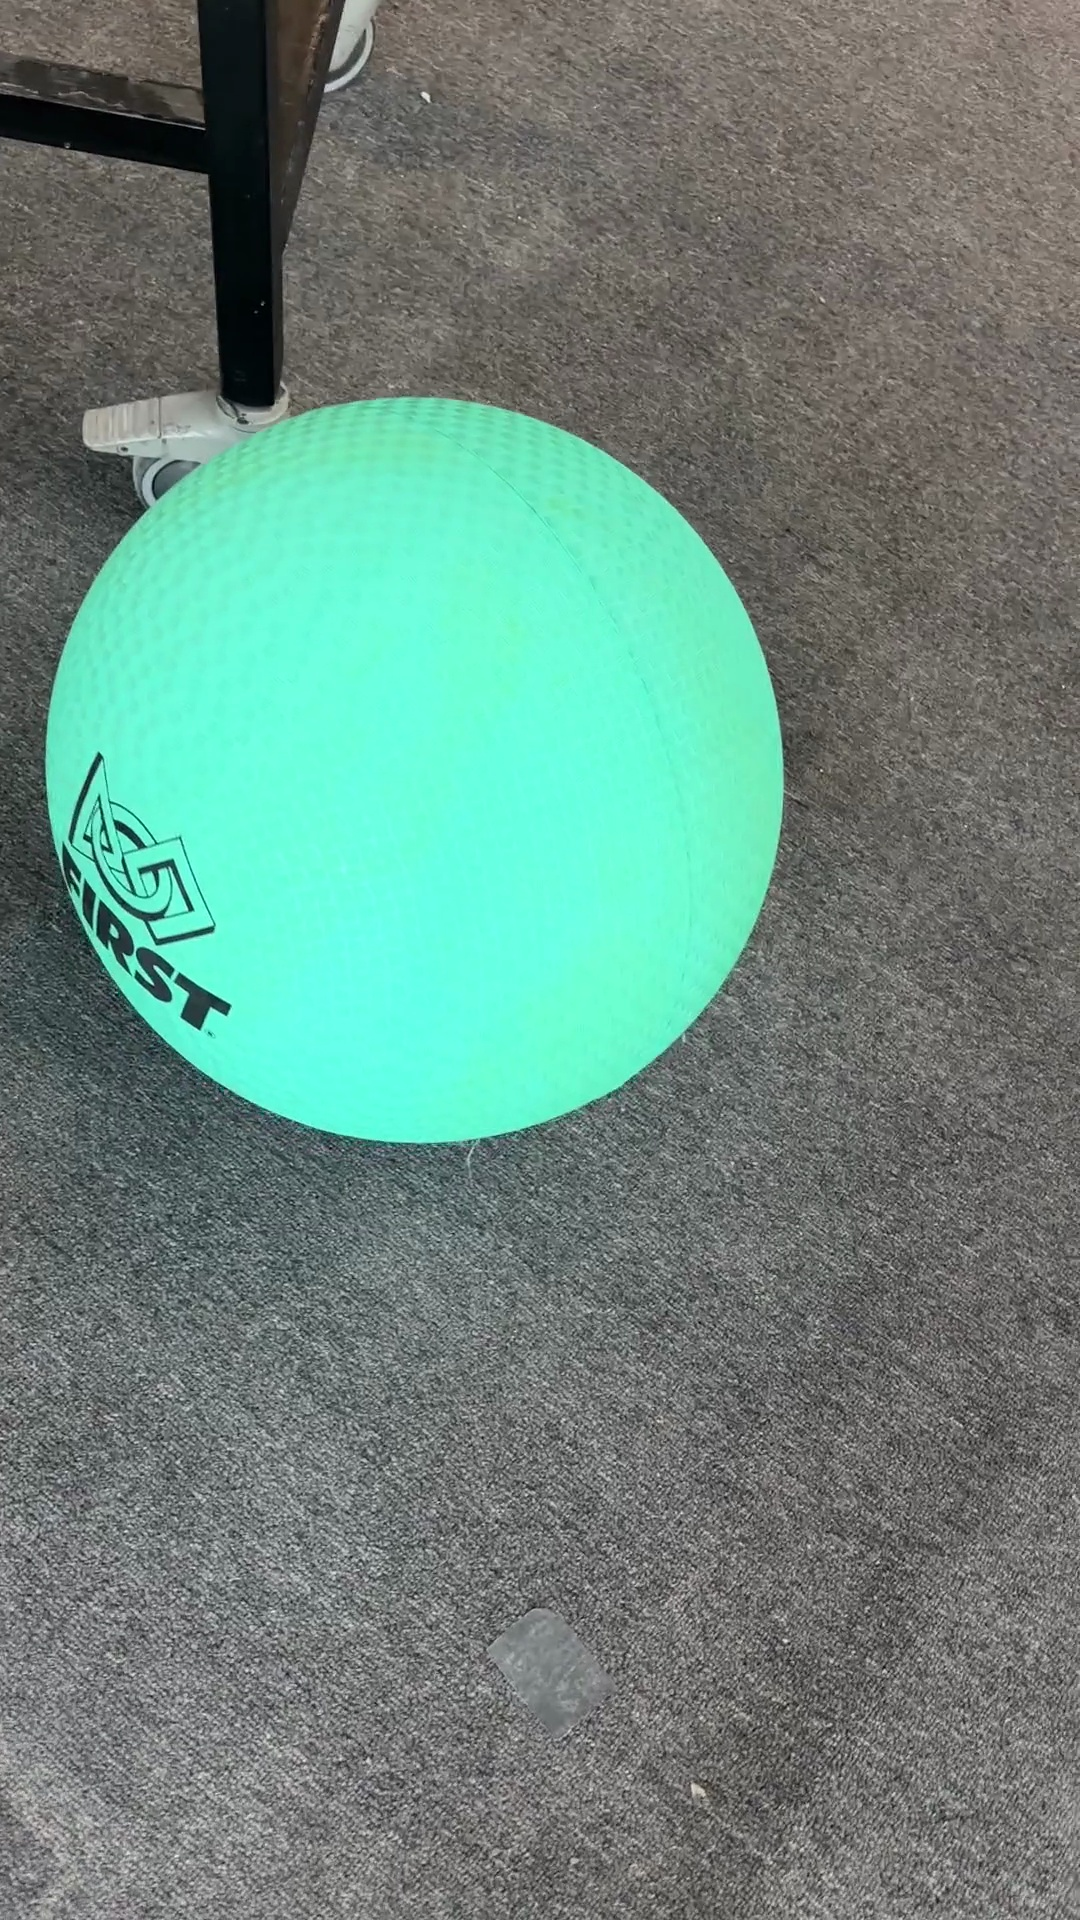algae: (41, 392, 789, 1149)
coral: (42, 392, 787, 1147)
